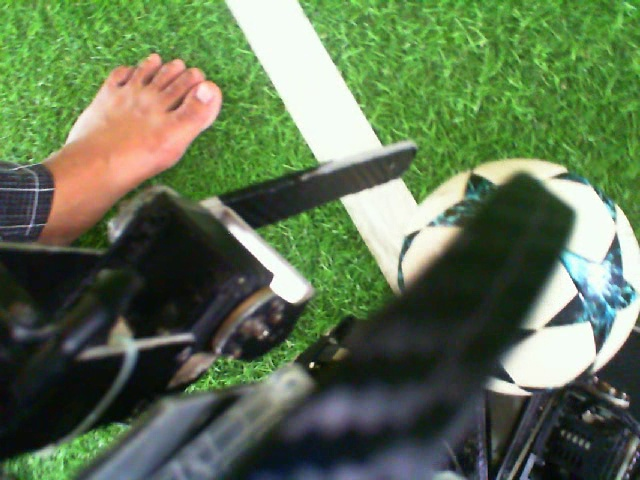ball: (481, 202, 640, 399)
